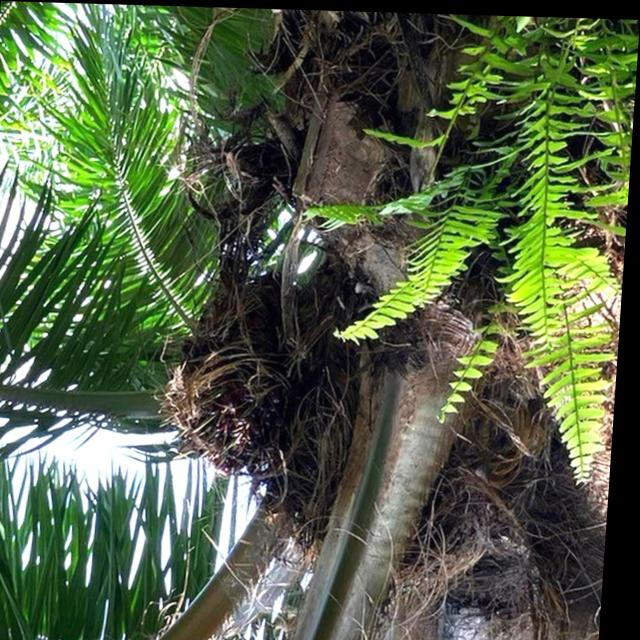ripe: (155, 278, 332, 488)
